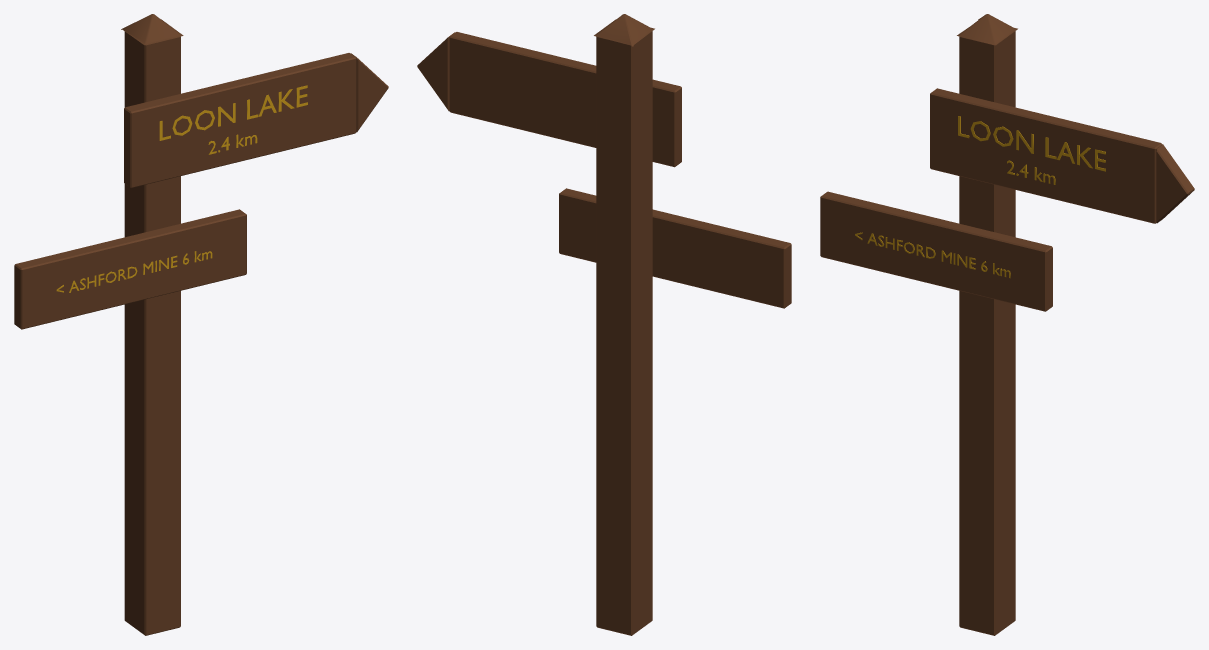
File: trail_sign.glb
3 renders of one model, left to right at view 1: azimuth 30°, elevation 25°; view 2: azimuth 150°, elevation 25°; view 3: azimuth 330°, elevation 25°, orthographic.
Parts seen in each view (by area): view 1: trail_sign, text, text.002; view 2: trail_sign; view 3: trail_sign, text, text.002.
Part boxes in pixels (left/top/right/bottom): trail_sign: left=14, top=14, right=388, bottom=635; text: left=159, top=85, right=307, bottom=140; text.002: left=56, top=251, right=212, bottom=292; trail_sign: left=417, top=14, right=791, bottom=635; trail_sign: left=820, top=14, right=1194, bottom=635; text: left=958, top=116, right=1105, bottom=171; text.002: left=855, top=232, right=1010, bottom=278.
Size of the model in its own units: 1.01 by 1.6 by 0.1435.
